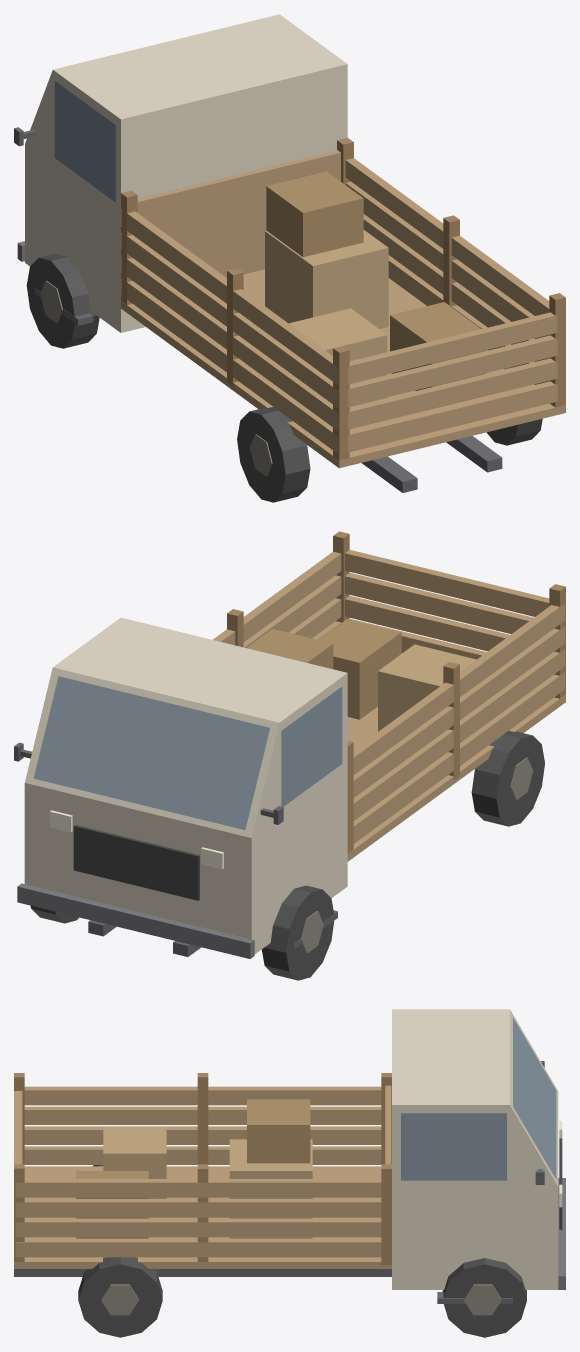
Rendered from cargo_truck.fbx.
3 views of the same model, one above another, from view 1: azimuth 30°, elevation 25°; view 2: azimuth 150°, elevation 25°; view 3: azimuth 270°, elevation 25° (orthographic). The views are drawn at different scales.
Visible parts, largest first — view 1: Body, Tire3, Tire2, Tire4; view 2: Body, Tire3, Tire2; view 3: Body, Tire4, Tire1.
Part boxes in pixels (left/top/right/bottom): Body: left=14, top=14, right=565, bottom=492; Tire3: left=237, top=407, right=310, bottom=502; Tire2: left=26, top=253, right=99, bottom=348; Tire4: left=486, top=367, right=542, bottom=445; Body: left=14, top=531, right=565, bottom=958; Tire3: left=471, top=731, right=544, bottom=826; Tire2: left=261, top=885, right=337, bottom=980; Body: left=14, top=1009, right=565, bottom=1289; Tire4: left=78, top=1257, right=162, bottom=1337; Tire1: left=437, top=1258, right=526, bottom=1337.
Size of the model in its own units: 175 by 165 by 365.
